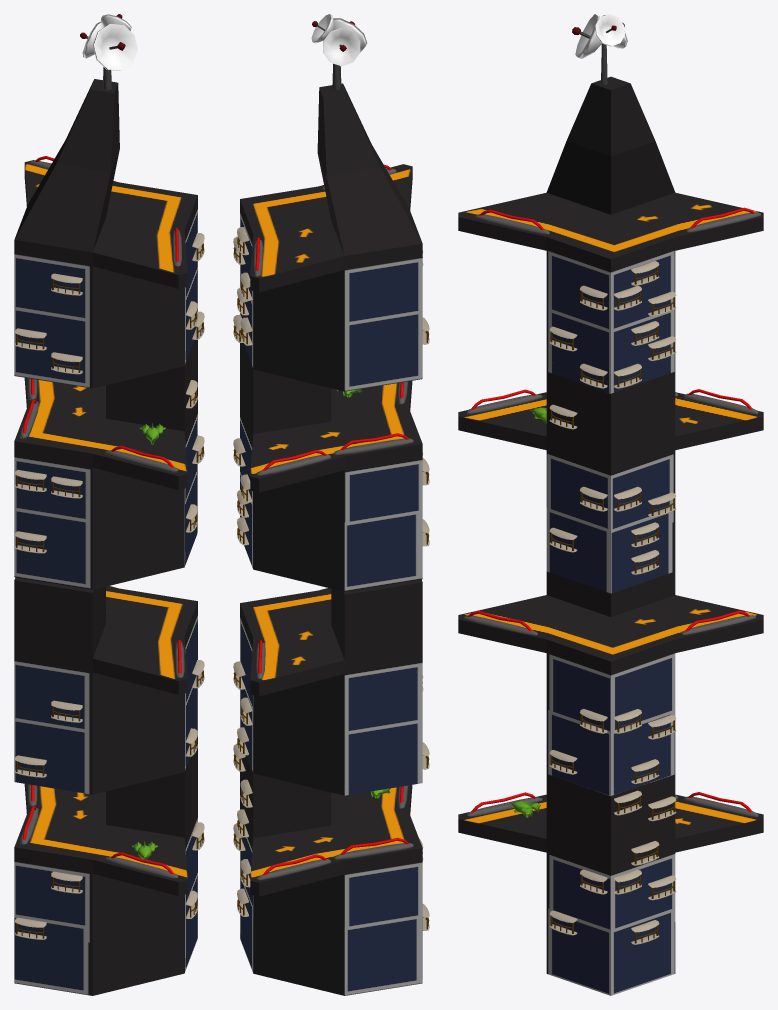
The model's file is DimondTowerJamieB.fbx.
The picture shows the model from 3 angles, left to right: view 1: azimuth 30°, elevation 25°; view 2: azimuth 150°, elevation 25°; view 3: azimuth 270°, elevation 25°; orthographic projection.
Parts seen in each view (by area): view 1: SatDish1; view 2: SatDish1; view 3: SatDish1.
Part boxes in pixels (bbox=[...]): SatDish1: bbox=[14, 14, 204, 995]; SatDish1: bbox=[233, 14, 429, 995]; SatDish1: bbox=[458, 14, 763, 995].
Size of the model in its own units: 2.9 by 13.91 by 4.1.
